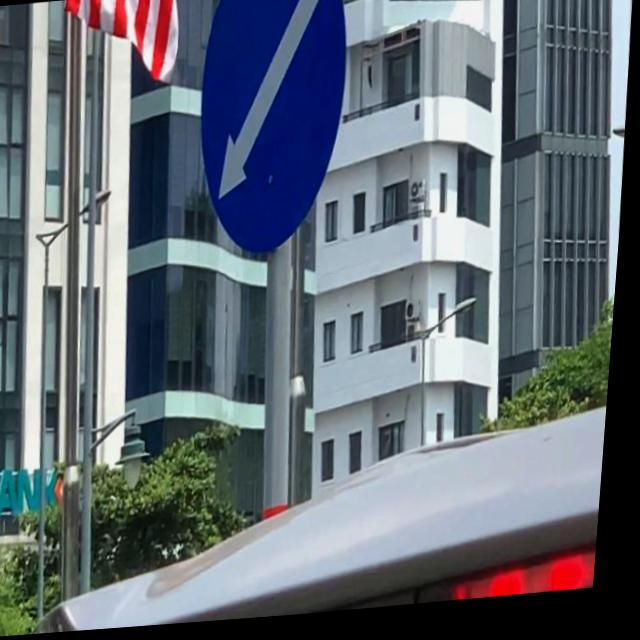Vong chuong ngai vat sang trai: (183, 0, 362, 265)
